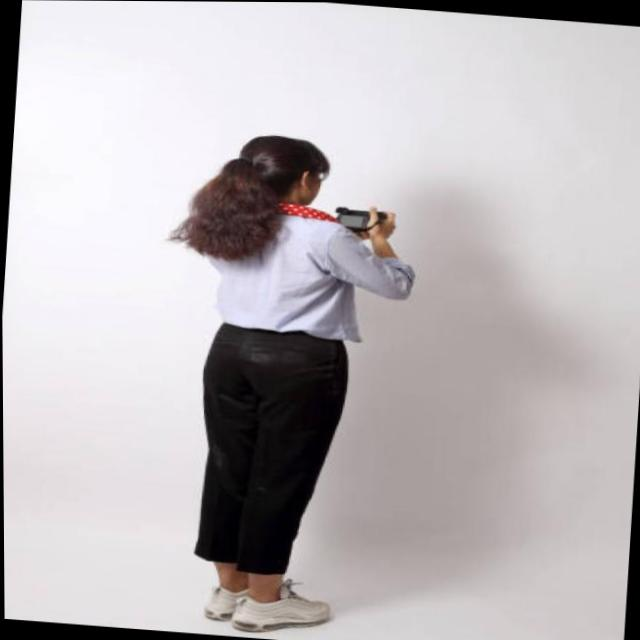no helmet: (209, 103, 362, 251)
